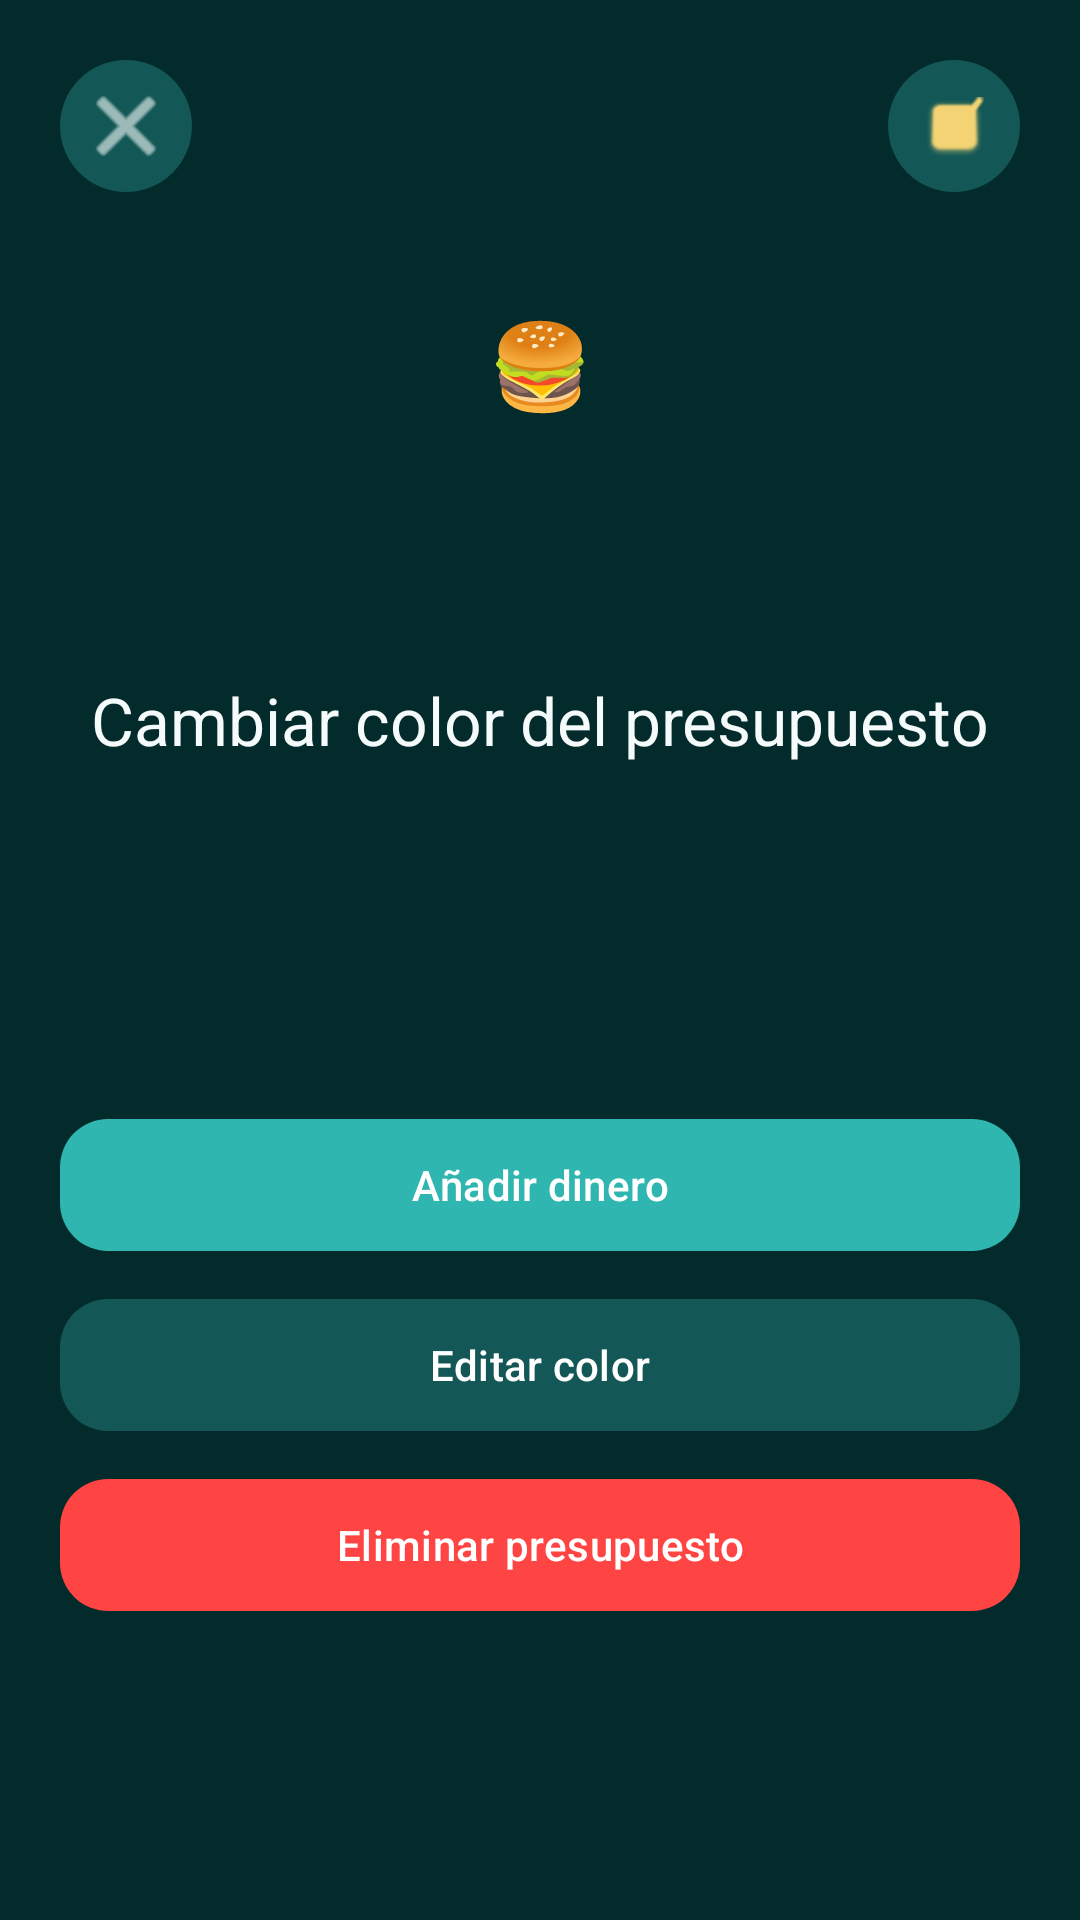

Icons on this 1080 × 1920 Android screen, each with the point to tap as (x=x, y=y):
close clear cancel: (x=126, y=126)
